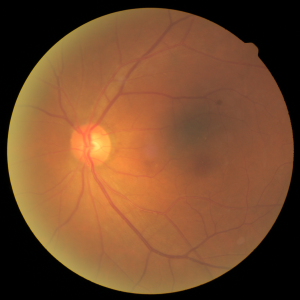cataract: (46, 91, 250, 205)
